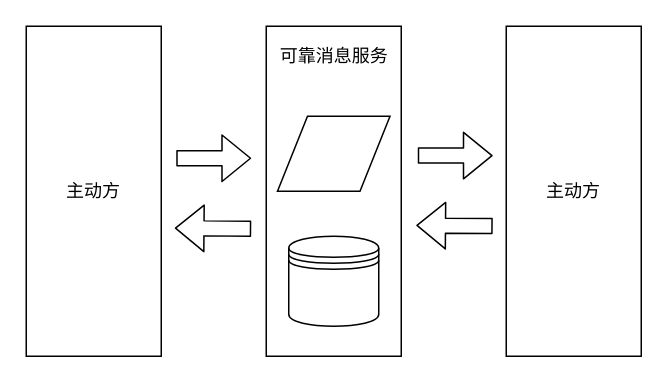
Image size: 668x383. Some labels were removed from this diagram. Here are the shapes that lost their labels. From the top down, the centre of each, then its label:
At point 333,153: "MQ".
At point 333,280: "database".
